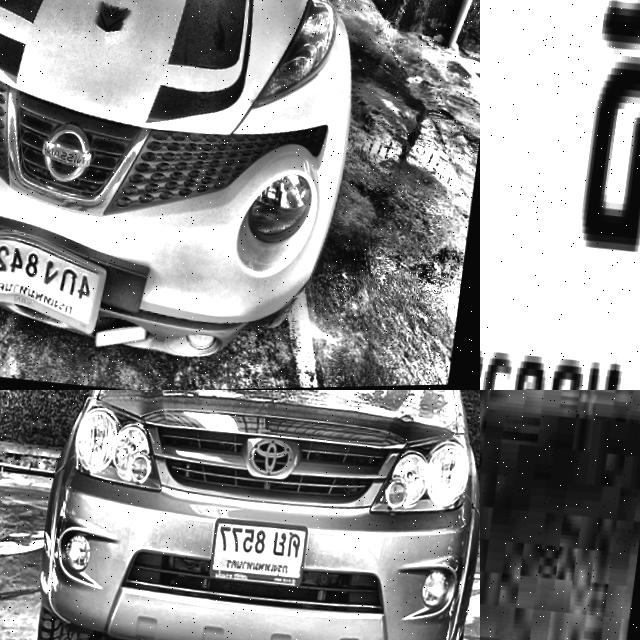license-plate: (480, 0, 640, 390), (0, 215, 112, 345), (201, 507, 315, 598)
